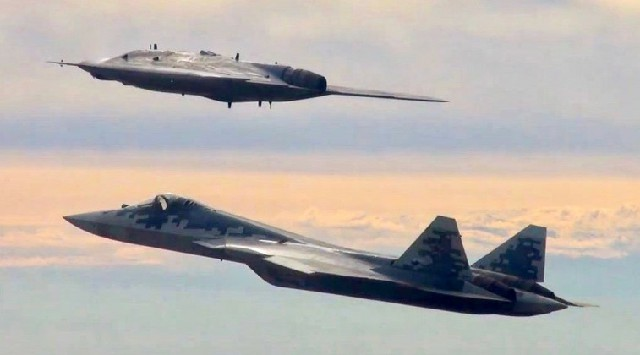maybay_khongnguoilai: (61, 39, 453, 114)
